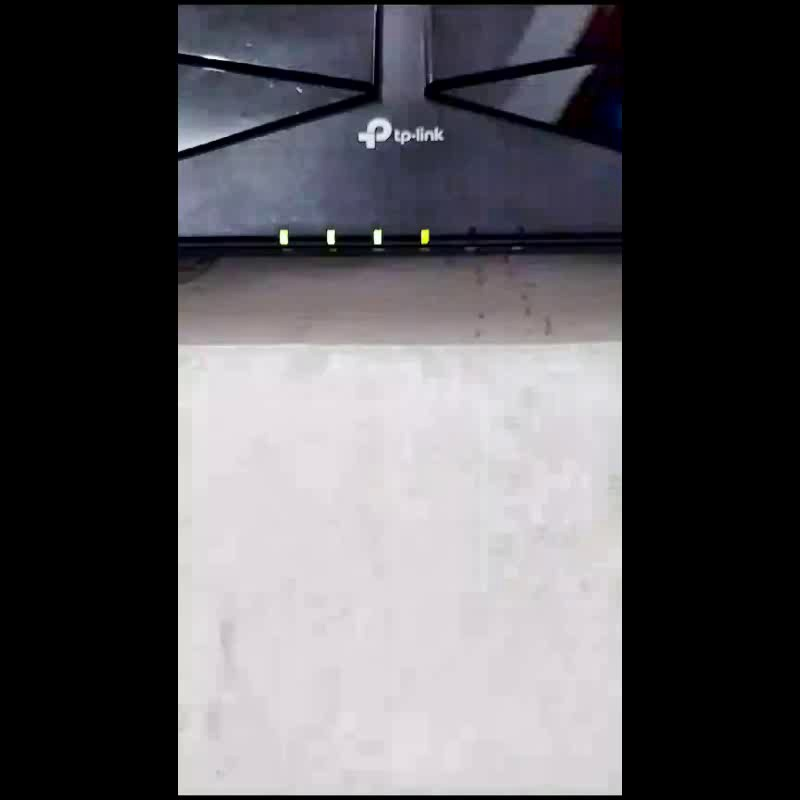off: (513, 223, 524, 243), (465, 224, 476, 242)
on_green: (279, 228, 288, 245), (420, 228, 429, 244), (373, 228, 382, 244), (326, 229, 335, 244)
